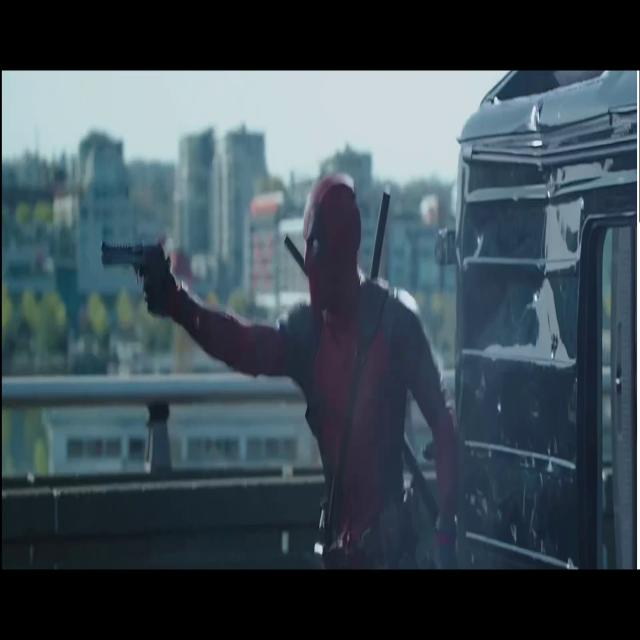weapons: (89, 212, 180, 337)
